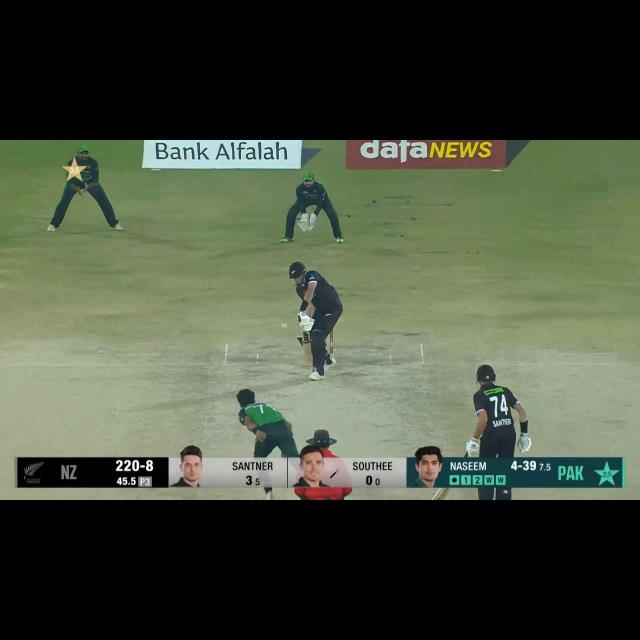bat: (302, 330, 312, 363), (432, 488, 452, 500)
toe: (302, 356, 316, 366), (430, 495, 449, 500)
